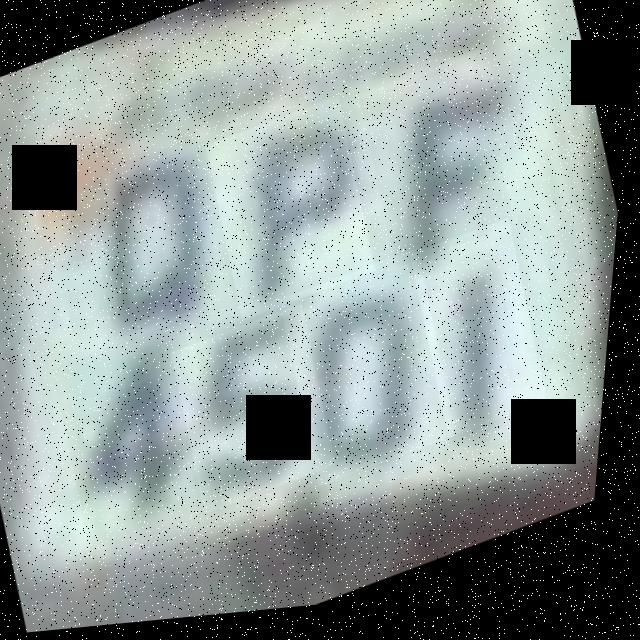0: (272, 252, 477, 497)
1: (403, 224, 567, 451)
4: (45, 319, 248, 577)
5: (166, 306, 354, 522)
F: (351, 61, 529, 280)
P: (197, 99, 392, 329)
